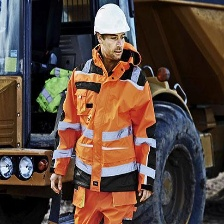helmet: (97, 2, 131, 37)
person: (54, 1, 147, 224)
vest: (71, 62, 152, 183)
